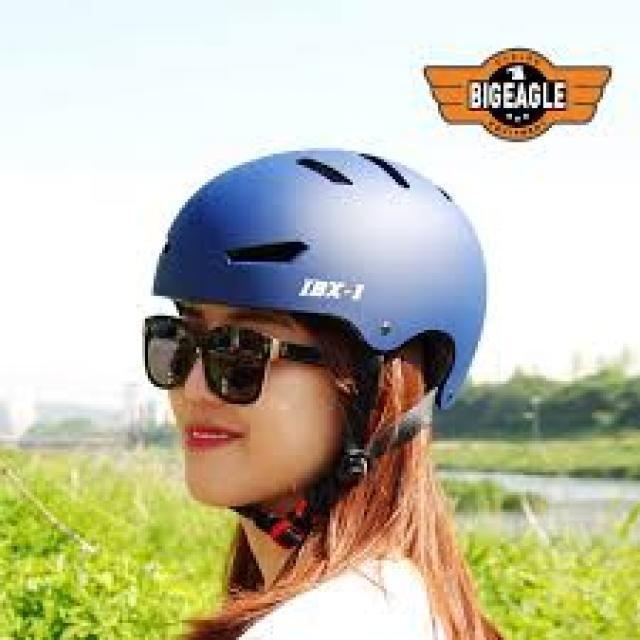Nonhelmet: (137, 142, 509, 635)
